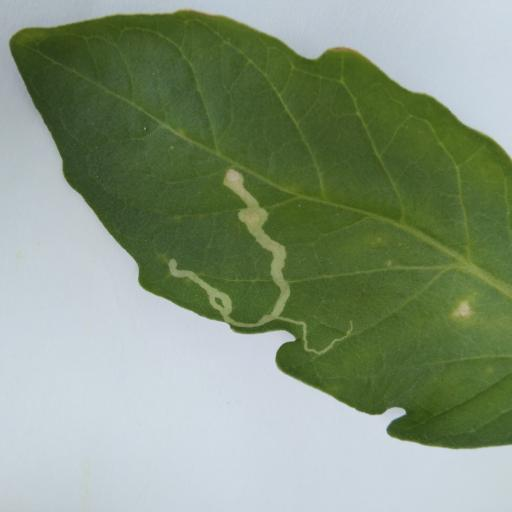Leaf Miner: (10, 6, 512, 450)
